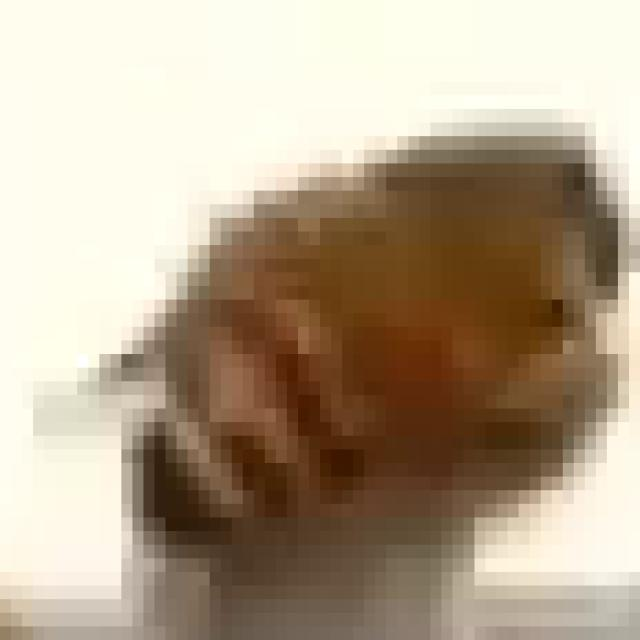honeybee: (124, 127, 595, 529)
